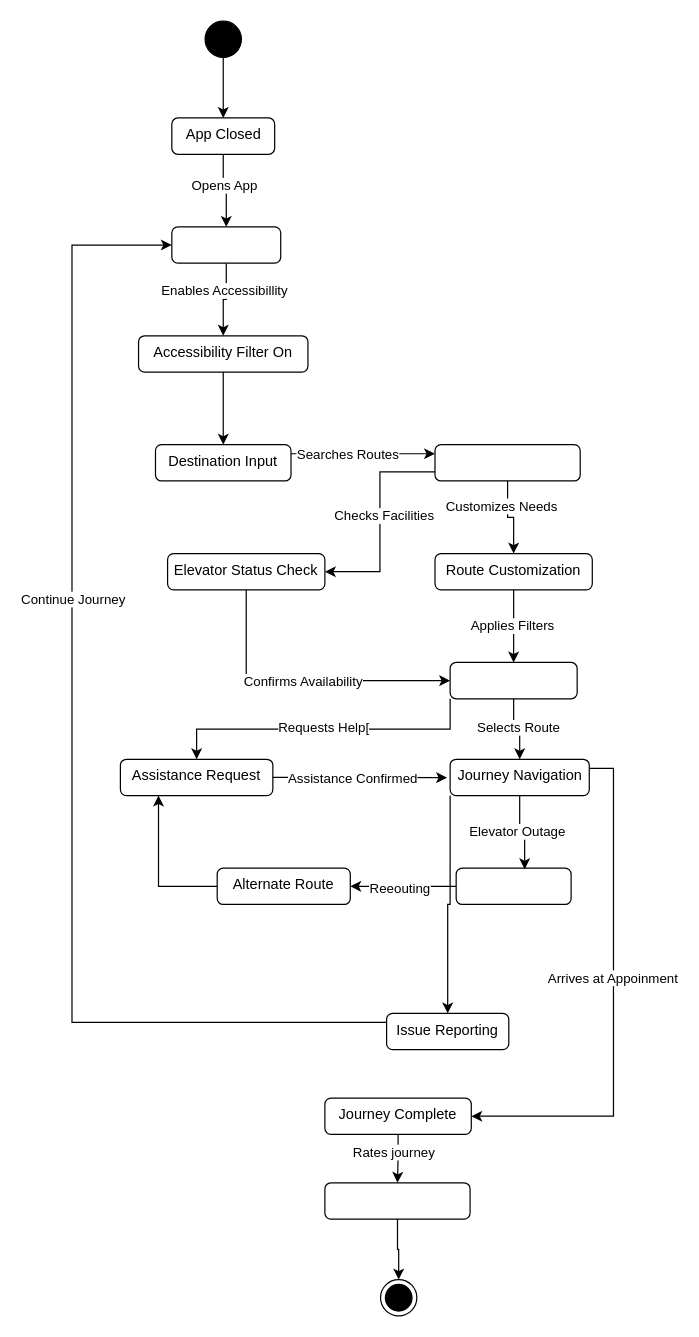
Some shapes in this 699 by 1337 pixel diagram are drawn without their labels. The centre of each missing label's shape, as x and y in pixels:
Accessible Routes: point (507, 462)
App opened: point (226, 244)
Barrier Alert: point (513, 885)
Rating Accessibility: point (397, 1200)
Route Selection: point (513, 680)
